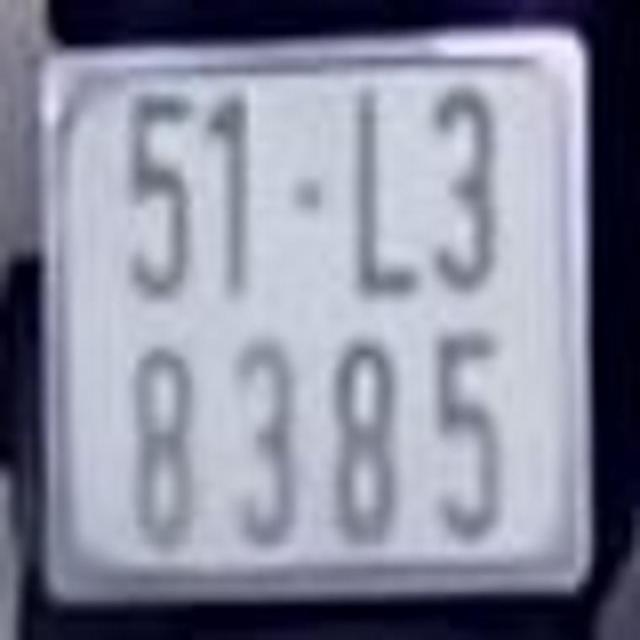1: (209, 100, 263, 300)
3: (436, 91, 499, 288), (234, 344, 296, 543)
5: (125, 92, 198, 295), (432, 336, 501, 544)
8: (127, 351, 197, 546), (333, 344, 398, 550)
L: (343, 92, 422, 292)
